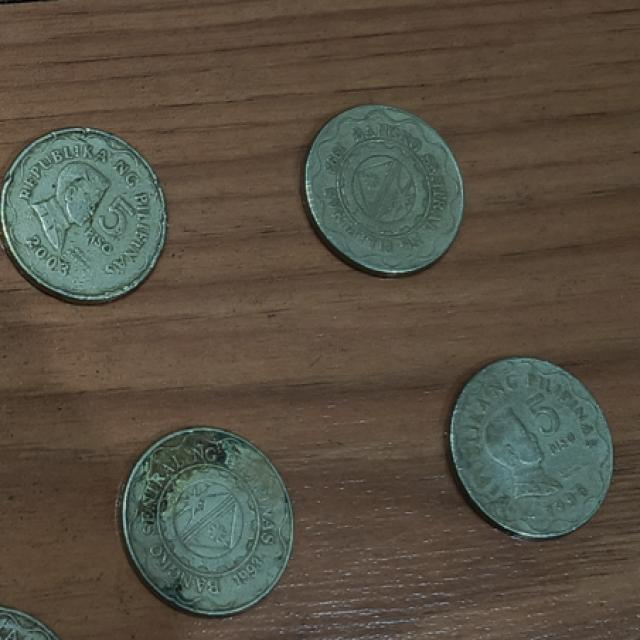5_peso: (123, 428, 292, 614), (450, 358, 612, 536), (0, 128, 161, 301), (306, 108, 463, 270)
